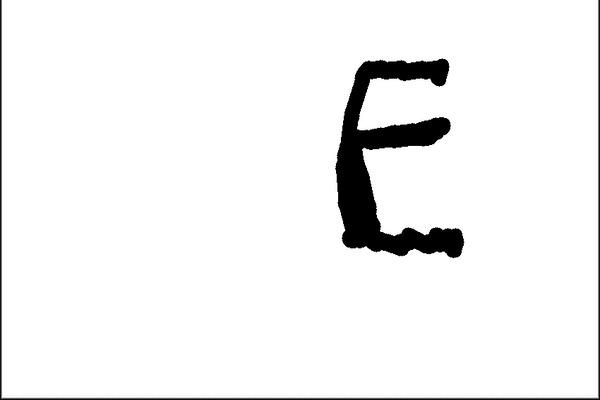E: (331, 54, 473, 265)
